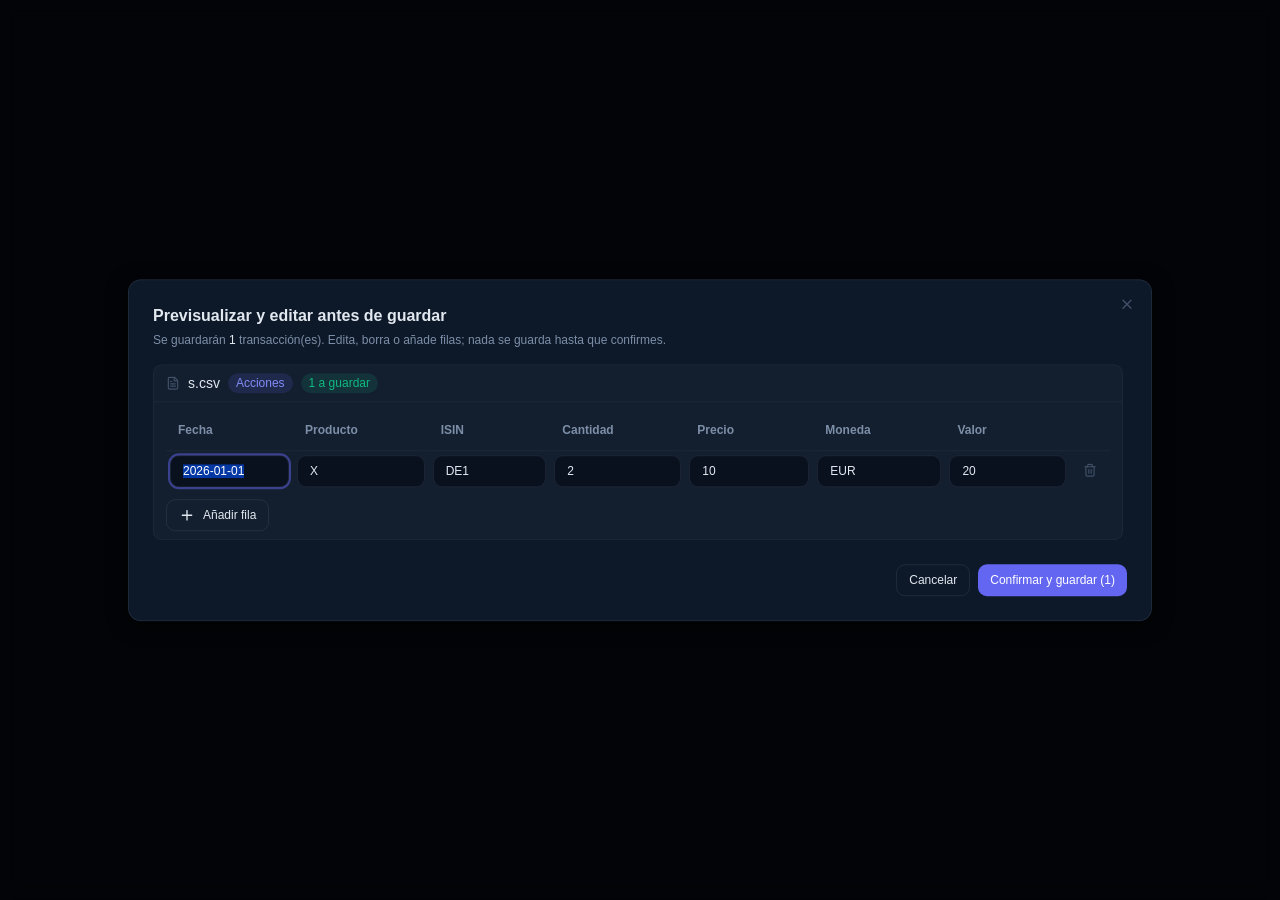
Test: ProcessPreviewDialog › blocks confirm and flags the cell when a number is invalid
Later steps or results of the test are not shown.
Replace the text in the field named "Precio fila 1" with "abc" at (749, 471), box left=689, top=455, right=809, bottom=487
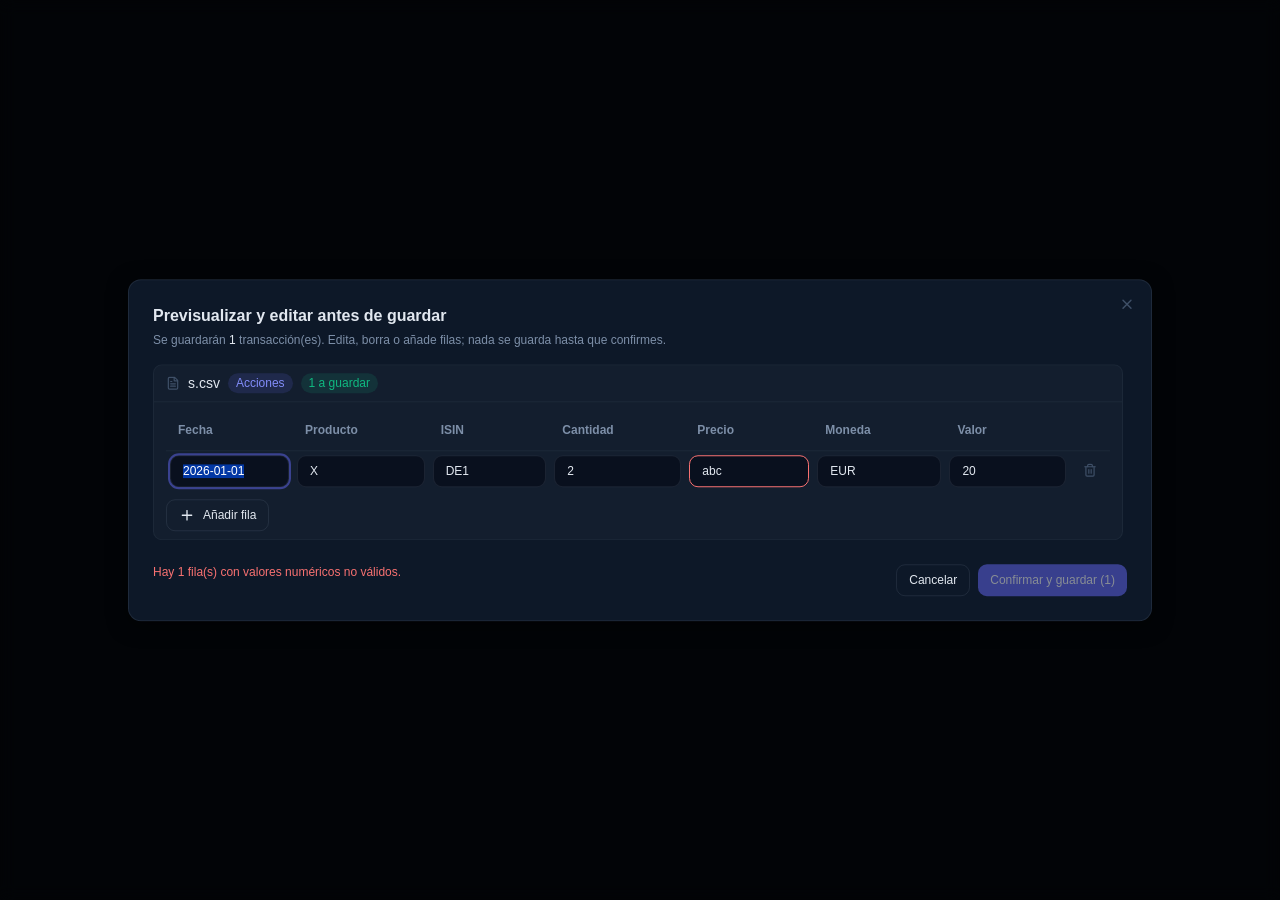
Check: the button "Confirmar y guardar (1)" is disabled, box left=978, top=564, right=1127, bottom=596
Check: the message "Hay 1 fila(s) con valores numéricos no válidos." is shown, box left=153, top=565, right=401, bottom=579
